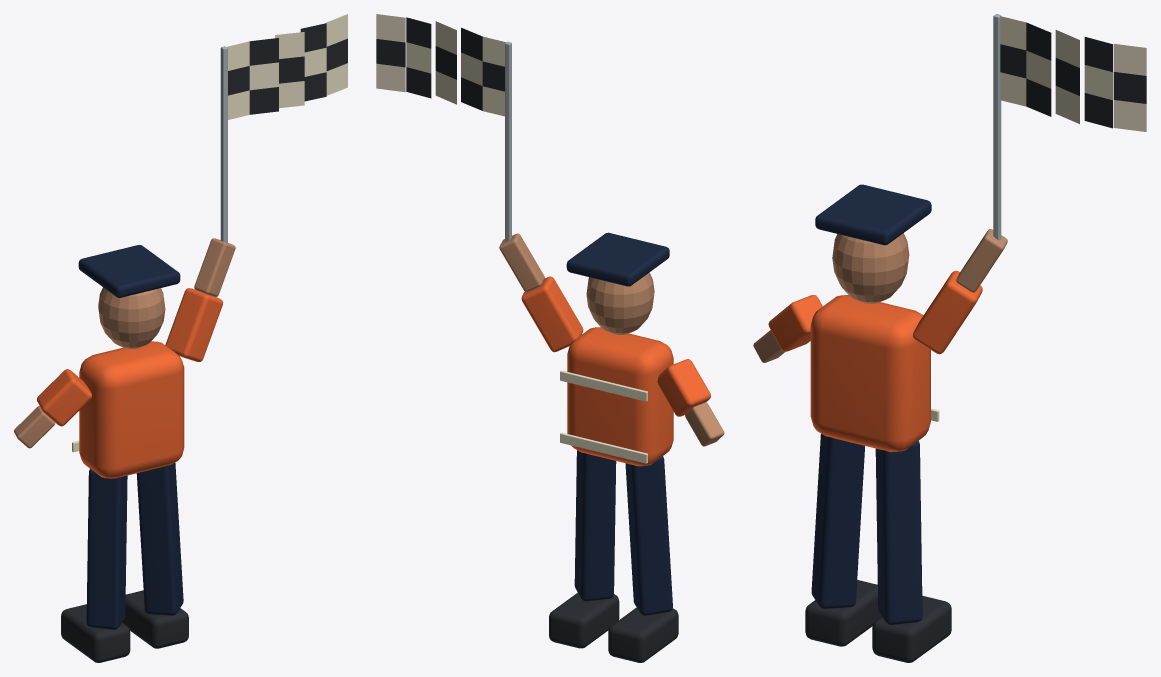
File: marshal.glb
The picture shows the model from 3 angles, left to right: view 1: azimuth 30°, elevation 25°; view 2: azimuth 150°, elevation 25°; view 3: azimuth 330°, elevation 25°; orthographic projection. The views are drawn at different scales.
Visible parts, largest first — view 1: navy, orange, white.001, dark, dark.001, skin, orange.002, orange.001, chrome, skin.002, skin.001; view 2: navy, orange, dark, white.001, dark.001, skin, orange.002, white, orange.001, skin.002, chrome, skin.001; view 3: navy, orange, white.001, dark, dark.001, skin, orange.002, chrome, orange.001, skin.002, skin.001.
Boxes of the visible parts, x1,y1,x2,y2 form: navy: (78,245,183,629); orange: (79,341,184,478); white.001: (227,14,347,119); dark: (61,590,188,662); dark.001: (228,23,347,114); skin: (98,287,165,348); orange.002: (165,288,223,361); orange.001: (37,369,91,426); chrome: (220,46,227,242); skin.002: (194,238,235,296); skin.001: (14,406,55,448); navy: (566,232,672,615); orange: (567,327,673,466); dark: (549,592,678,662); white.001: (376,14,505,116); dark.001: (376,17,504,110); skin: (586,272,654,334); orange.002: (521,276,583,352); white: (560,370,647,463); orange.001: (657,359,710,416); skin.002: (499,233,544,291); chrome: (505,41,511,241); skin.001: (685,402,724,446); navy: (811,184,931,624); orange: (810,295,930,452); white.001: (1000,16,1146,131); dark: (805,580,951,662); dark.001: (1000,22,1146,128); skin: (832,233,909,303); orange.002: (913,270,982,354); chrome: (993,14,1001,240); orange.001: (768,295,822,351); skin.002: (956,229,1007,292); skin.001: (753,330,785,362).
Size of the model in its own units: 1.72 by 2.77 by 0.385.
